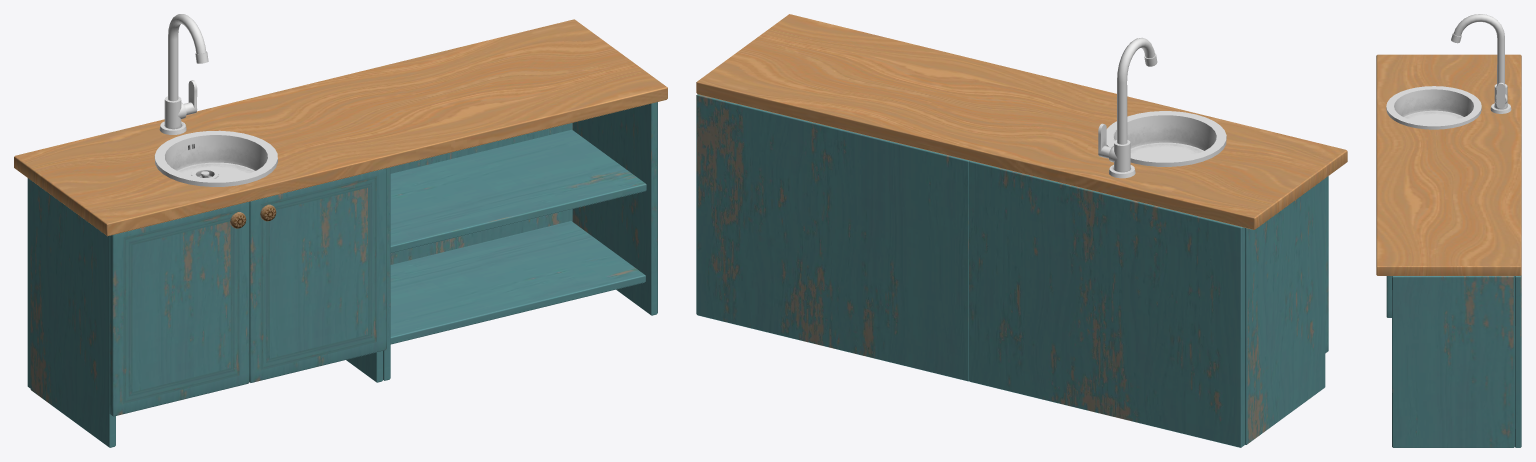
Rendered from kitchen_units.glb.
3 renders of one model, left to right at view 1: azimuth 30°, elevation 25°; view 2: azimuth 150°, elevation 25°; view 3: azimuth 270°, elevation 25°, orthographic. The views are drawn at different scales.
Visible parts, largest first — view 1: CabinetTable_A.004, Cabinet_FrontA.006, Cabinet_Shelf_A.008, Cabinet_Shelf_A.006, Cabinet_Side_B.007, Cabinet_Side_B.009, Sink.001, Cabinet_Back_B.004, Faucet.001, Cabinet_Side_B.008, Cabinet_Back_B.003; view 2: Cabinet_Back_B.003, Cabinet_Back_B.004, CabinetTable_A.004, Cabinet_Side_B.007, Sink.001, Faucet.001, Cabinet_FrontA.006; view 3: CabinetTable_A.004, Cabinet_Side_B.009, Sink.001, Faucet.001, Cabinet_Back_B.004, Cabinet_FrontA.006.
Boxes of the visible parts, x1,y1,x2,y2 form: CabinetTable_A.004: (14,19,667,236); Cabinet_FrontA.006: (109,168,386,416); Cabinet_Shelf_A.008: (390,129,646,253); Cabinet_Shelf_A.006: (390,221,645,344); Cabinet_Side_B.007: (30,180,115,447); Cabinet_Side_B.009: (572,102,657,315); Sink.001: (154,130,277,186); Cabinet_Back_B.004: (390,123,572,264); Faucet.001: (159,14,208,134); Cabinet_Side_B.008: (346,167,390,382); Cabinet_Back_B.003: (27,178,30,388); Cabinet_Back_B.003: (969,161,1244,447); Cabinet_Back_B.004: (696,94,969,381); CabinetTable_A.004: (696,14,1347,229); Cabinet_Side_B.007: (1245,178,1325,444); Sink.001: (1106,111,1226,166); Faucet.001: (1098,37,1157,178); Cabinet_FrontA.006: (1325,176,1328,353); CabinetTable_A.004: (1376,54,1521,275); Cabinet_Side_B.009: (1392,276,1514,447); Sink.001: (1386,86,1481,129); Faucet.001: (1451,14,1511,113); Cabinet_Back_B.004: (1515,275,1521,447); Cabinet_FrontA.006: (1386,276,1391,317).
Size of the model in its own units: 2.25 by 1.37 by 0.6499.
Materials: 2 (2 with a texture image).
